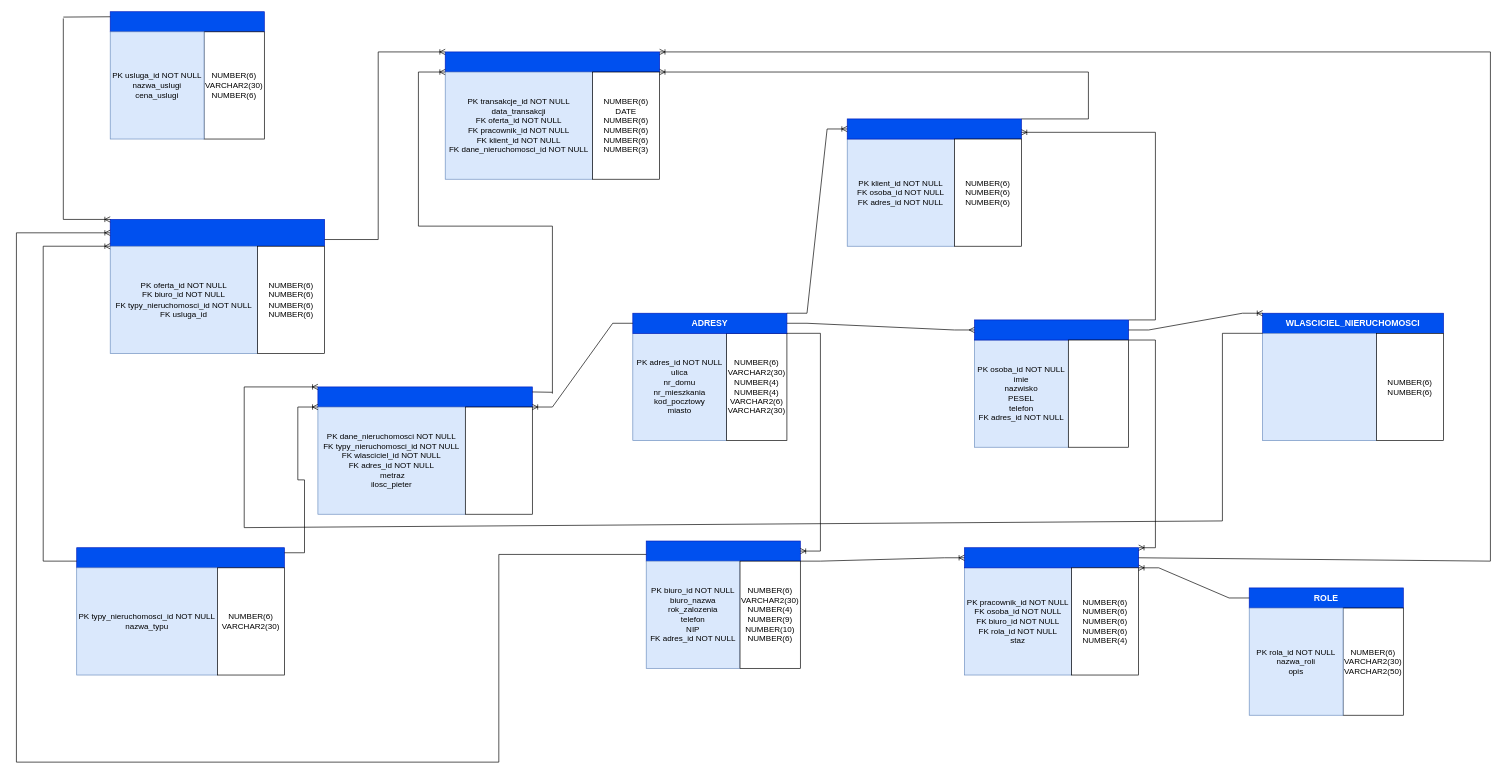
The diagram is 1508 pixels wide and 775 high, and some of its shapes have lost their labels. The shapes that lost their labels are listed below. From the top down, each one's centre as x and y in pixels, then its label:
pixel 187 21: USLUGI
pixel 552 61: TRANSAKCJE
pixel 934 128: KLIENT_AGENCJI
pixel 217 232: OFERTA AGENCJI
pixel 1051 329: OSOBY
pixel 424 396: DANE_NIERUCHOMOSCI
pixel 1098 393: NUMBER(6) VARCHAR2(30) VARCHAR2(30) NUMBER(11) NUMBER(9) NUMBER(6)
pixel 1319 387: PK wlasciciel_id NOT NULL FK osoba_id NOT NULL
pixel 498 460: NUMBER(6) NUMBER(6) NUMBER(6) NUMBER(6) VARCHAR2(30) NUMBER(3)
pixel 180 557: TYPY_NIERUCHOMOSCI
pixel 723 550: BIURO_AGENCJI
pixel 1051 557: PRACOWNICY_AGENCJI
